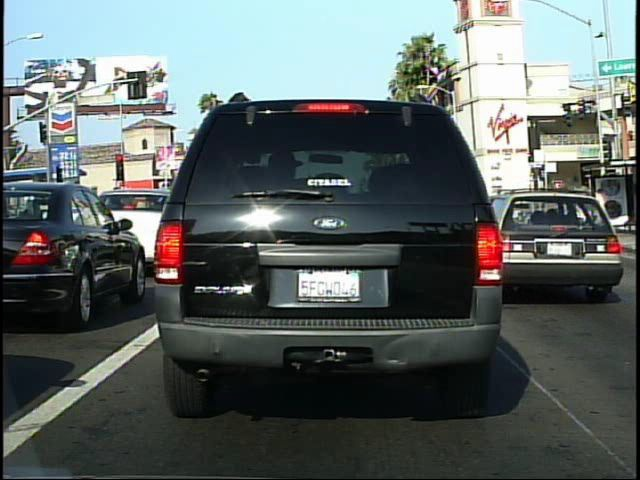person: (590, 184, 618, 241), (565, 183, 586, 238)
